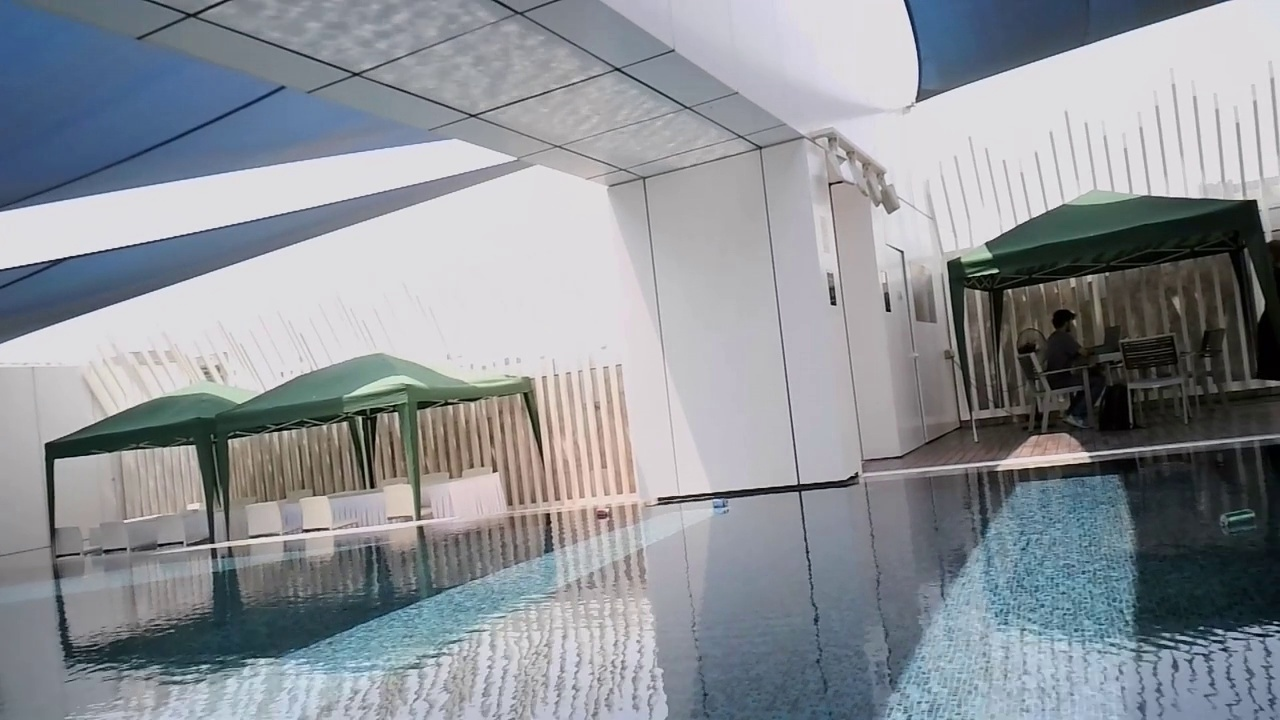debris: (1215, 504, 1260, 539), (705, 493, 734, 514), (590, 504, 615, 524)
